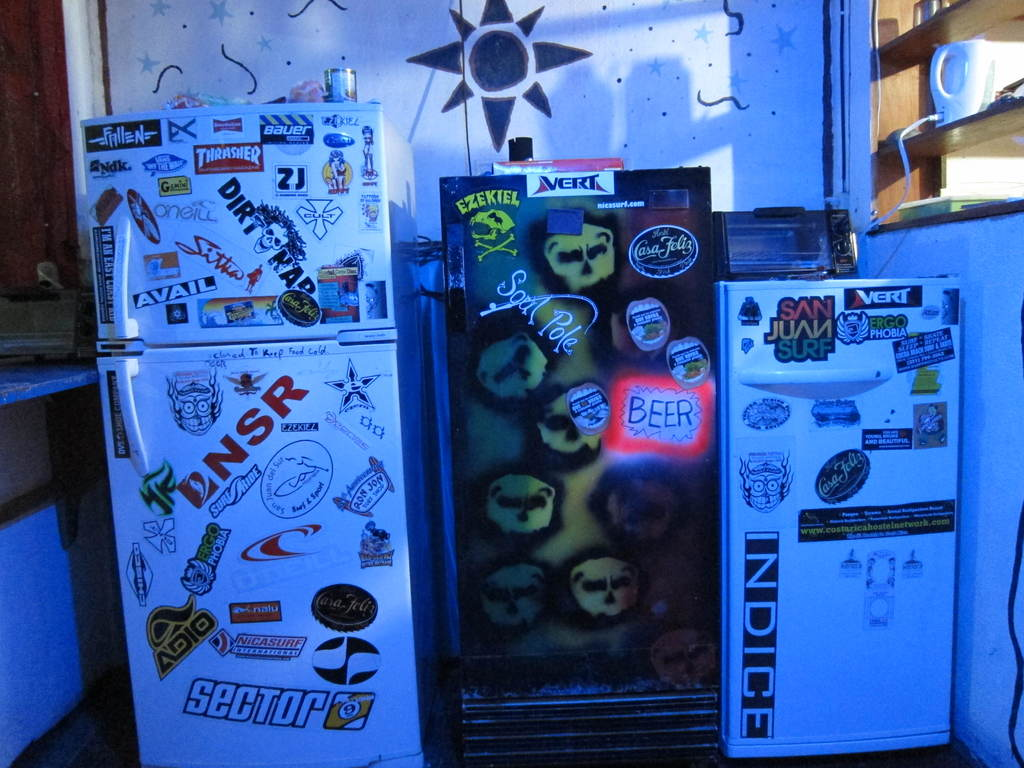handle: (110, 348, 159, 481), (100, 211, 141, 343), (741, 365, 889, 393), (446, 226, 476, 335)
refrigerator door: (449, 181, 713, 688), (100, 349, 403, 768), (730, 291, 952, 722), (82, 129, 391, 315)
